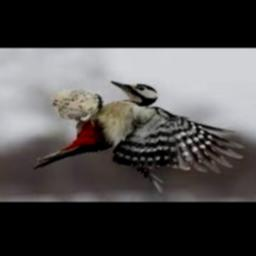Woodpecker: (32, 81, 245, 192)
